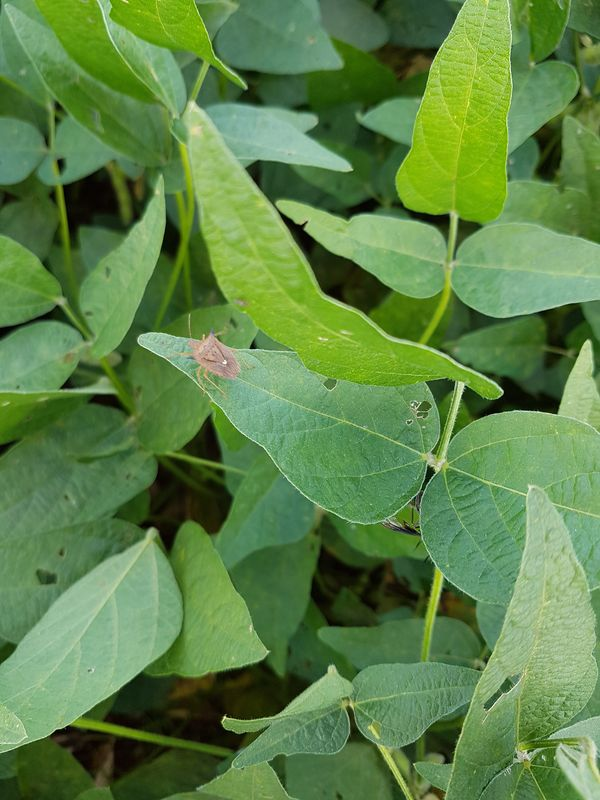Euschistus_heros_adulto: (163, 313, 267, 404)
